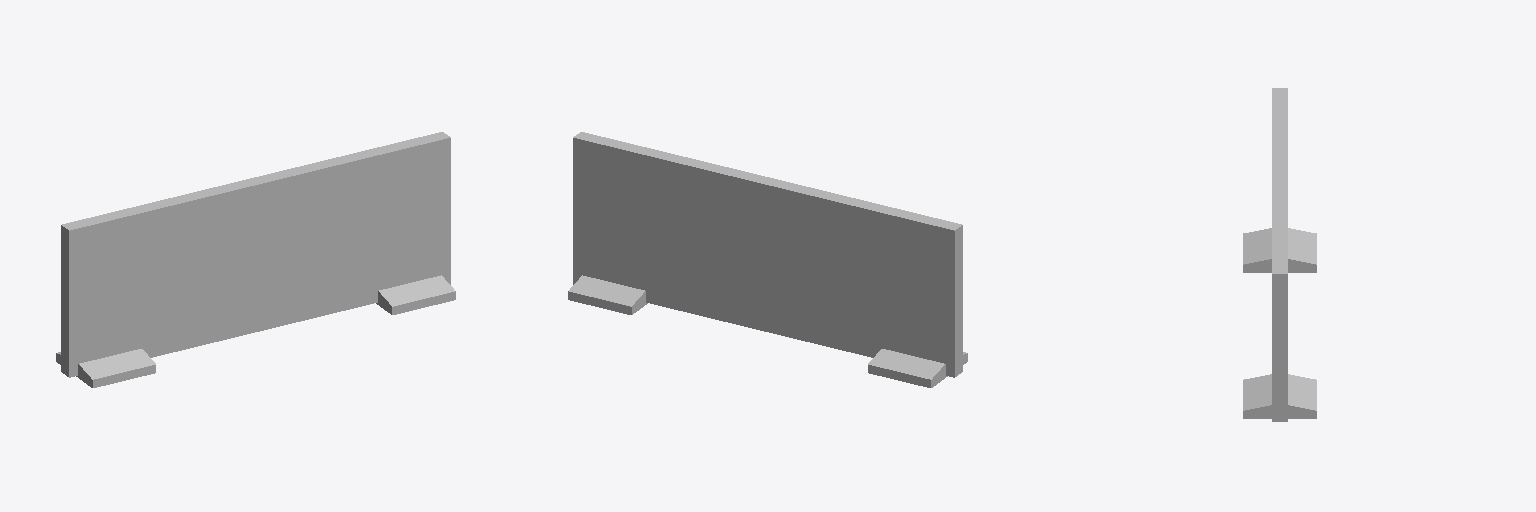
The model's file is gorizontal-barricade.obj.
3 renders of one model, left to right at view 1: azimuth 30°, elevation 25°; view 2: azimuth 150°, elevation 25°; view 3: azimuth 270°, elevation 25°, orthographic.
Parts seen in each view (by area): view 1: основа_горизонтальной_баррикады_Куб.028; view 2: основа_горизонтальной_баррикады_Куб.028; view 3: основа_горизонтальной_баррикады_Куб.028.
Part boxes in pixels (x1,y1,x2,y2): основа_горизонтальной_баррикады_Куб.028: (56, 132, 455, 387); основа_горизонтальной_баррикады_Куб.028: (568, 132, 967, 387); основа_горизонтальной_баррикады_Куб.028: (1243, 88, 1316, 421).
Size of the model in its own units: 12 by 4.5 by 2.